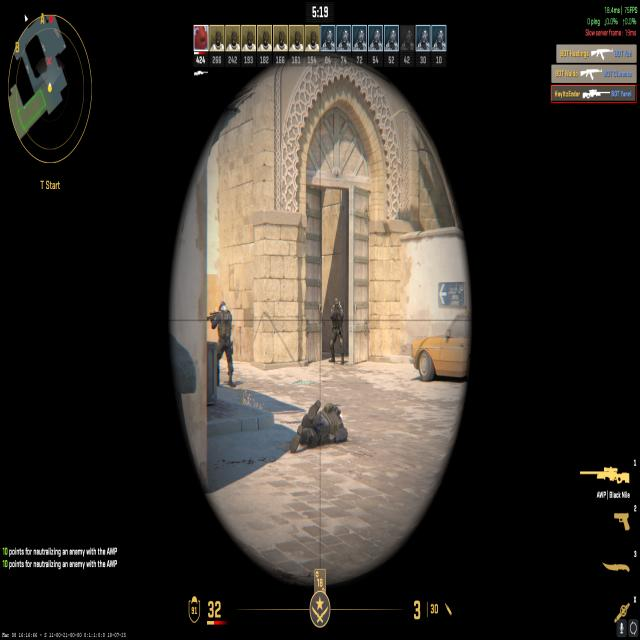ct: (212, 301, 235, 388), (329, 297, 345, 367)
